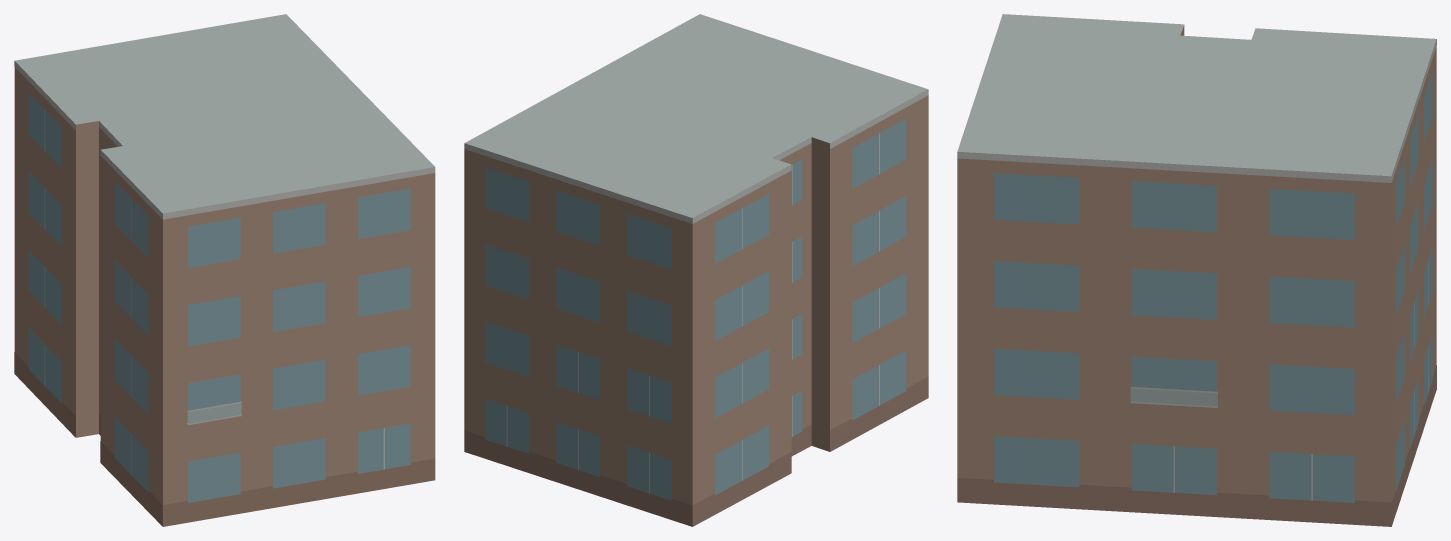
File: survey-upis-32941505.glb
3 views of the same model, side by side, from view 1: azimuth 30°, elevation 25°; view 2: azimuth 150°, elevation 25°; view 3: azimuth 270°, elevation 25° (orthographic). The views are drawn at different scales.
Parts seen in each view (by area): view 1: survey-upis-32941505.tmp; view 2: survey-upis-32941505.tmp; view 3: survey-upis-32941505.tmp.
Part boxes in pixels (<box>): survey-upis-32941505.tmp: <box>14,14,435,526</box>; survey-upis-32941505.tmp: <box>464,14,928,526</box>; survey-upis-32941505.tmp: <box>957,14,1436,526</box>.
Size of the model in its own units: 12.72 by 12.8 by 15.87.
